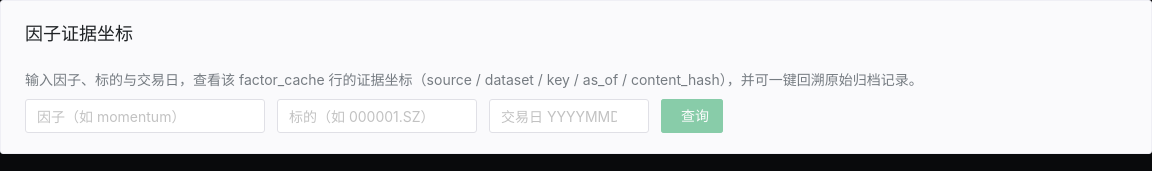
Test case: FactorCitation › disables submit until factor, symbol and YYYYMMDD date are all present
Expected: the button "查询" is disabled, [661,99,723,133]
In the field with placeholder "因子（如 momentum）": (135, 116) [37,99,233,133], type "momentum"
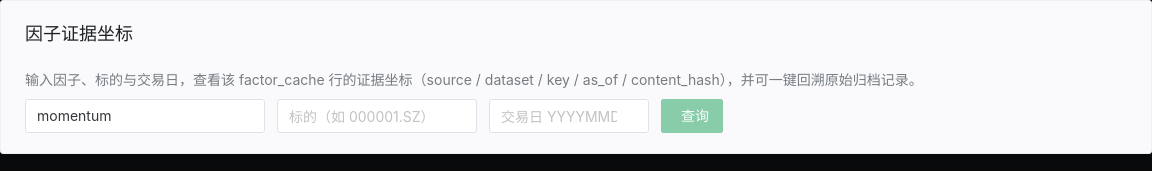
In the field with placeholder "标的（如 000001.SZ）": (367, 116) [289,99,445,133], type "000001.SZ"
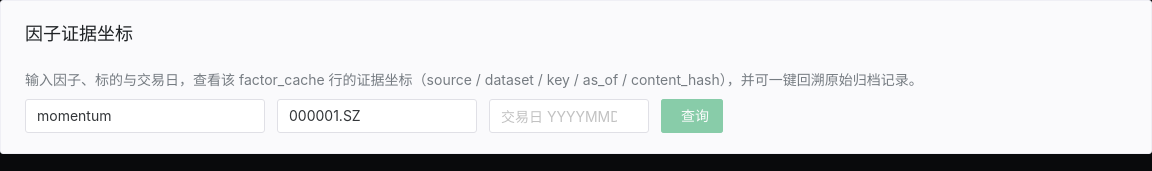
Note: A malformed date must not unlock the submit: the row is addressed by it.
In the field with placeholder "交易日 YYYYMMDD": (559, 116) [501,99,617,133], type "2026-01-05"
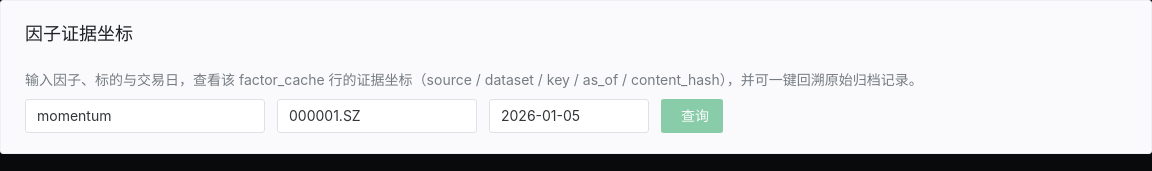
Expected: the button "查询" is disabled, [661,99,723,133]
Replace the text in the 3rd field with "20260105": (559, 116) [501,99,617,133]
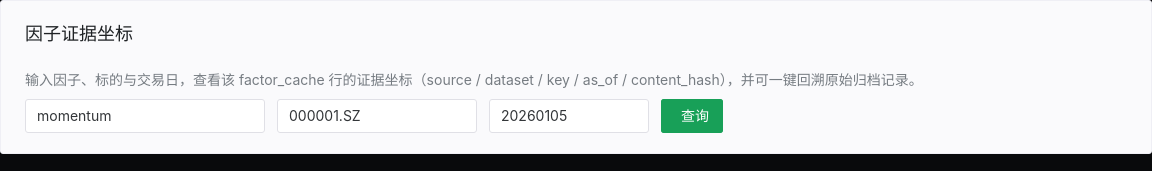
Expected: the button "查询" is enabled, [661,99,723,133]
